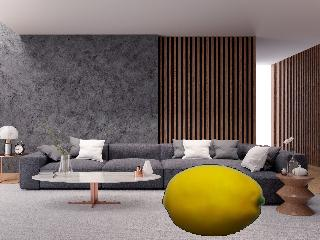lemon: (159, 161, 269, 238)
